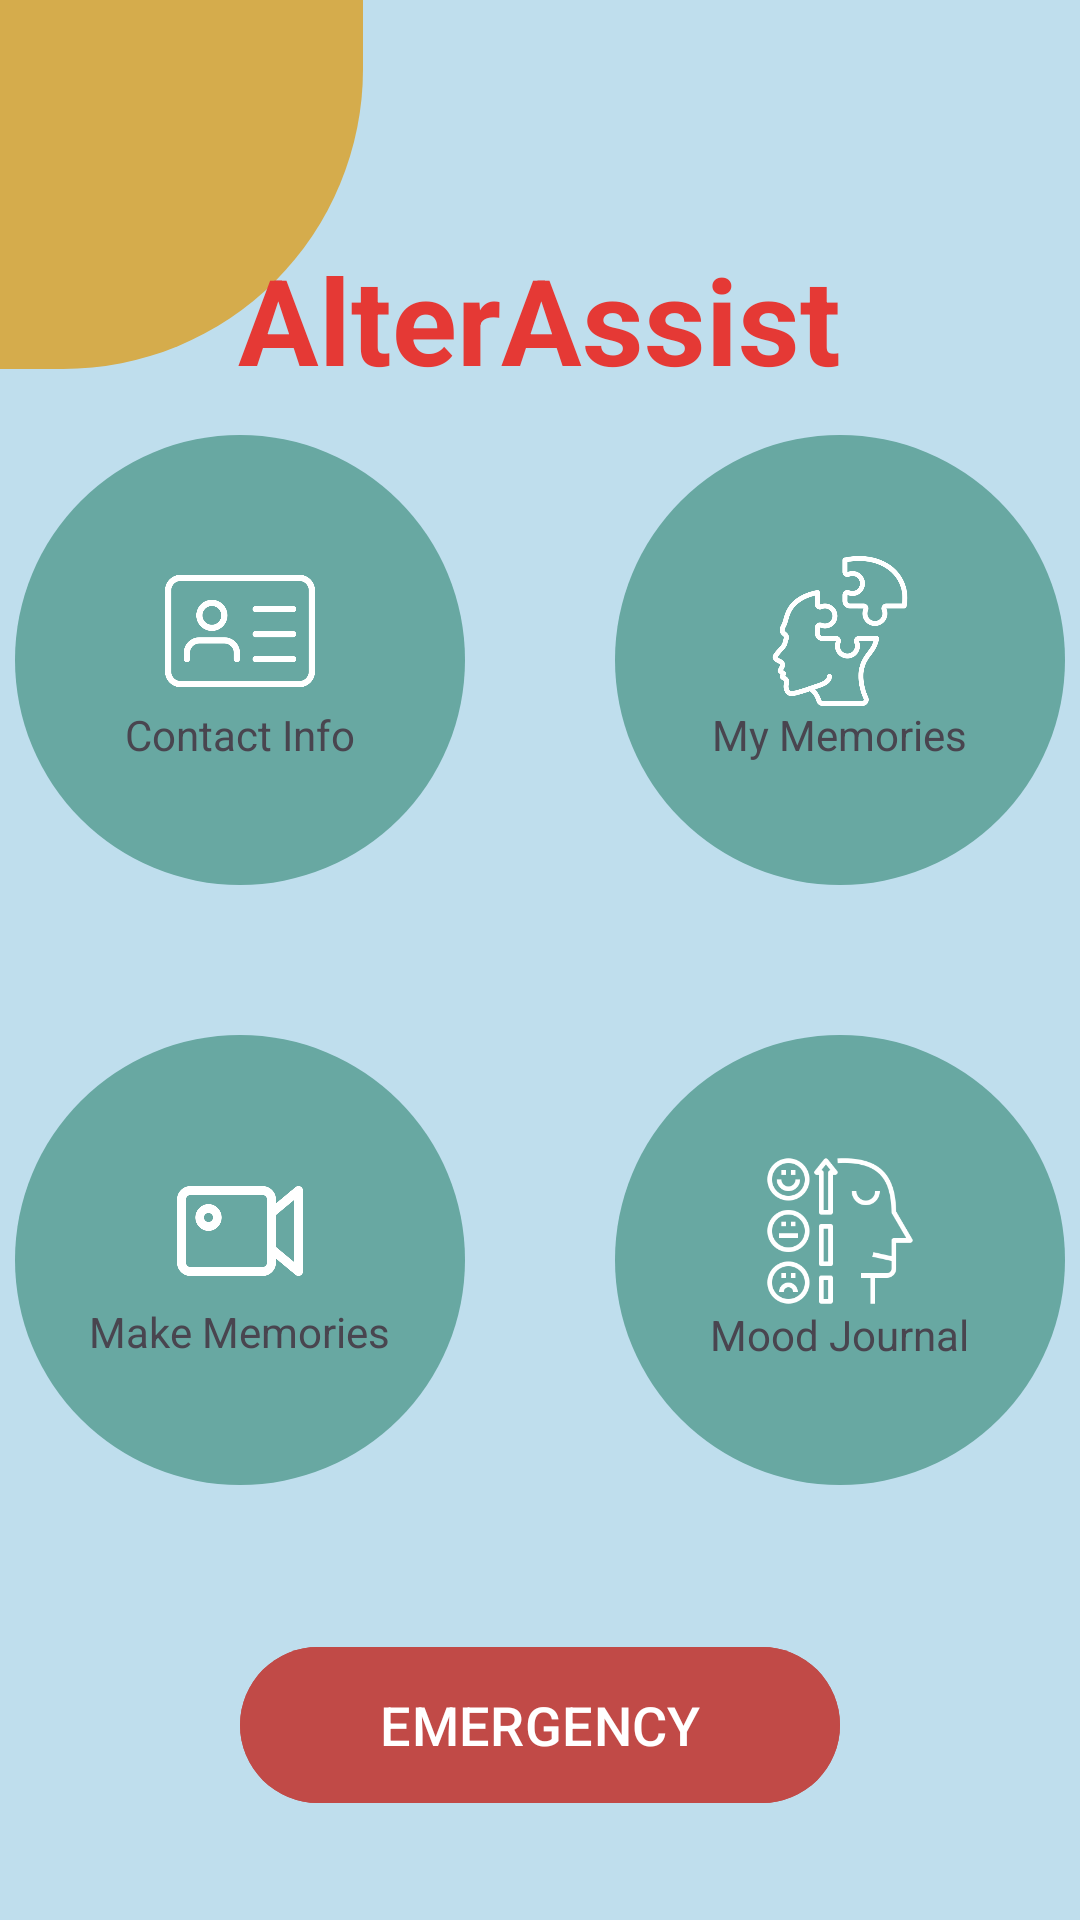

Screen size 1080 x 1920. Icon name, then its box in pixels as (x1, y1, x2, y2):
emotional intelligence: (767, 1158, 913, 1304)
idcard: (165, 575, 315, 687)
puzzle: (773, 556, 908, 706)
record: (177, 1186, 303, 1276)
